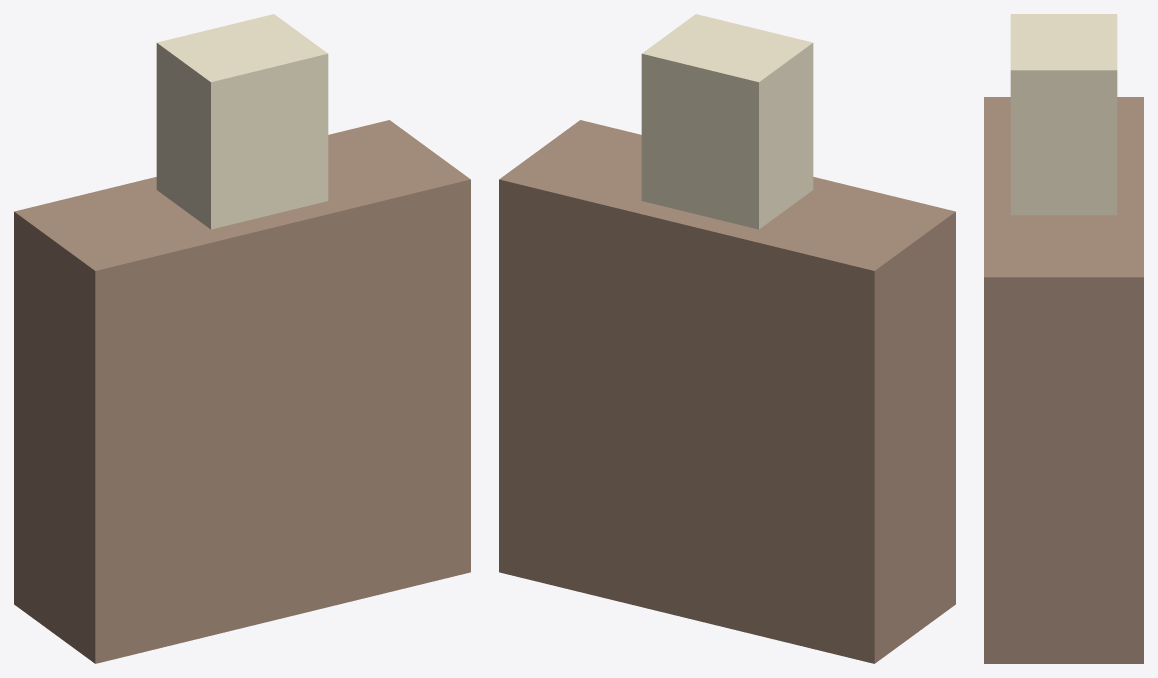
Rendered from wood.gltf.
3 renders of one model, left to right at view 1: azimuth 30°, elevation 25°; view 2: azimuth 150°, elevation 25°; view 3: azimuth 270°, elevation 25°, orthographic.
Size of the model in its own units: 0.8 by 1.1 by 0.3.
